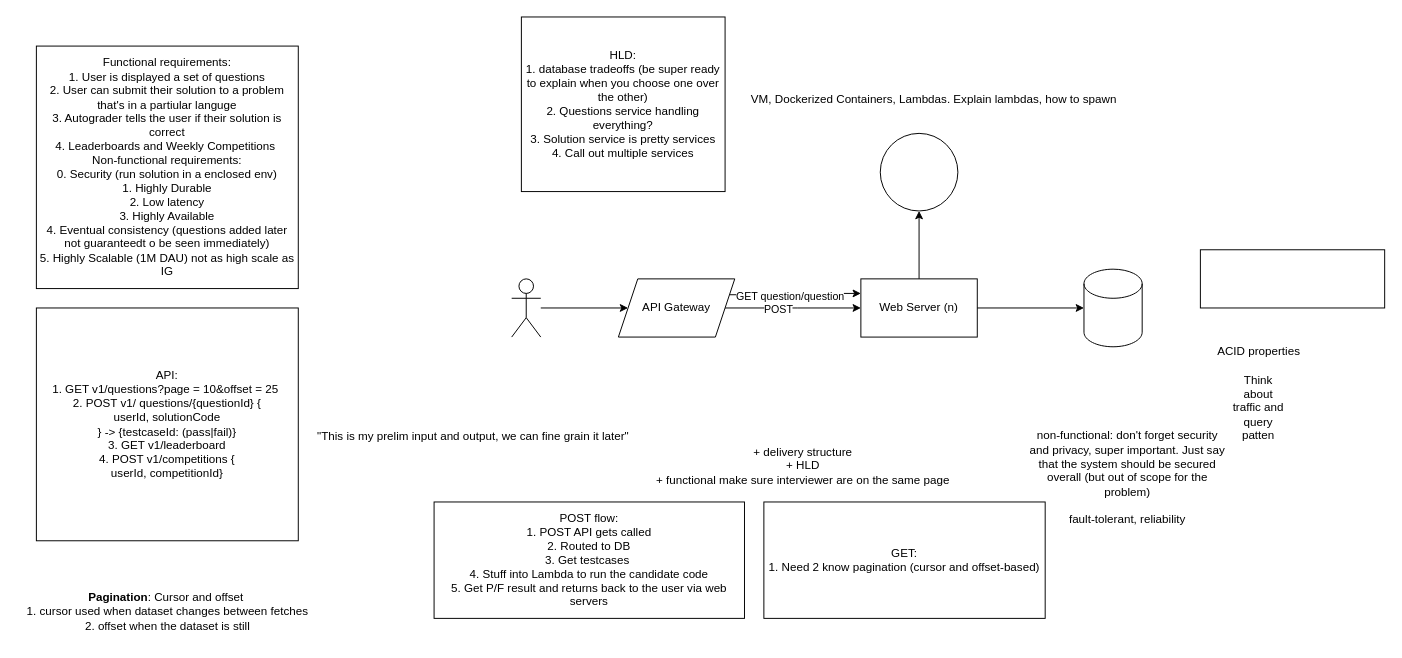
Some shapes in this 1402 by 658 pixel diagram are drawn without their labels. Each missing label, with the centre of its shape:
Client: point (526, 307)
Lambdas: point (918, 171)
Postgres: point (1112, 307)
questionId, problem statement, metadata, testcaseId (maps to testcase table): point (1292, 278)
